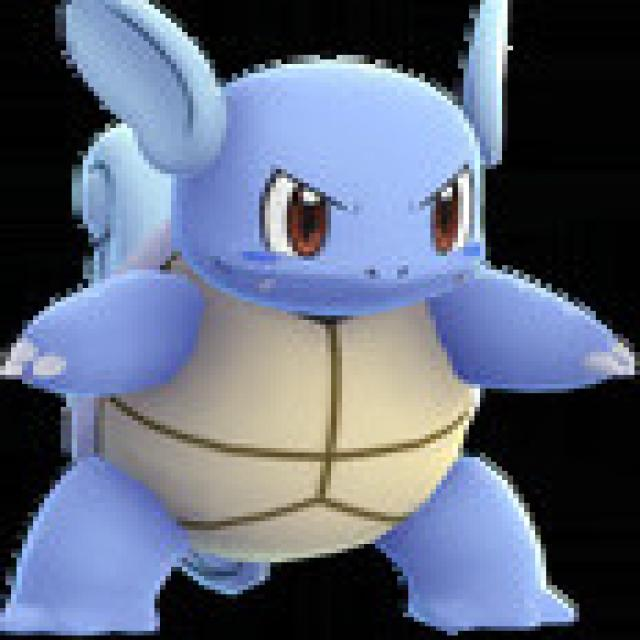Wartortle: (0, 0, 636, 640)
